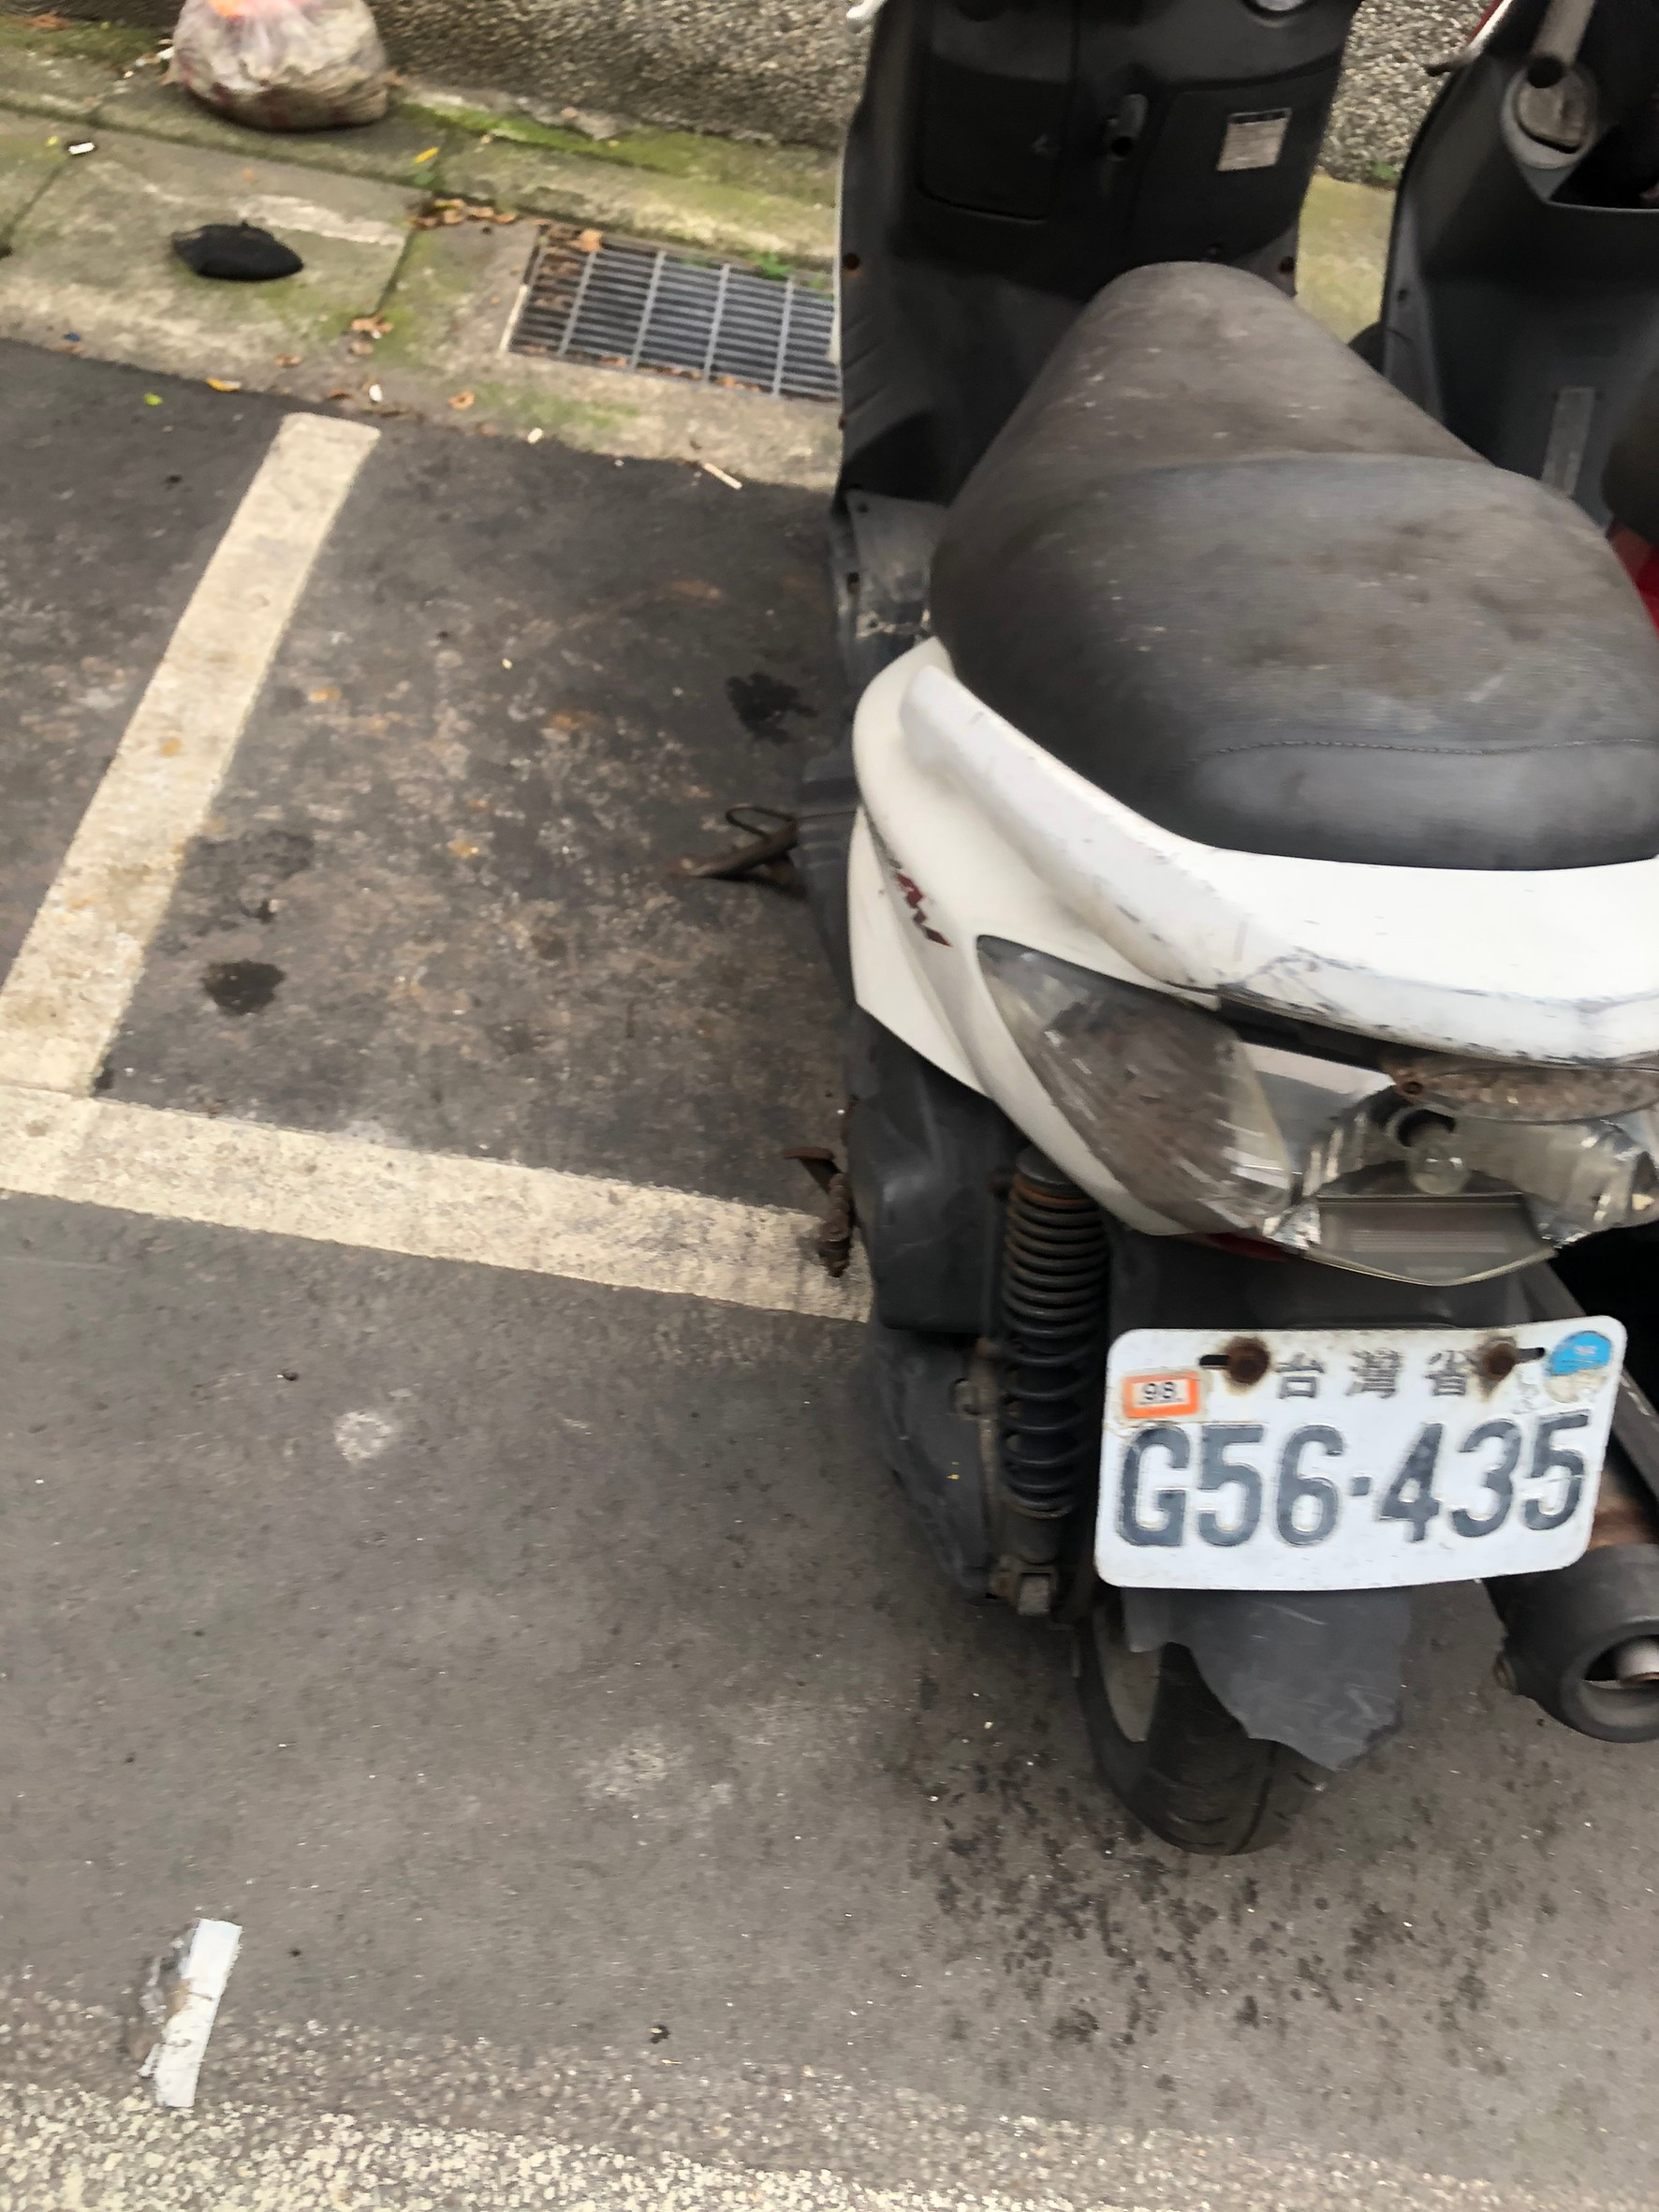LP: (1094, 1317, 1603, 1596)
